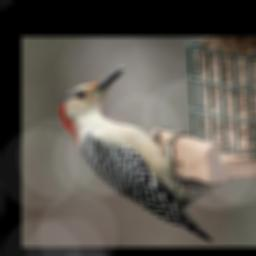Woodpecker: (58, 65, 224, 242)
